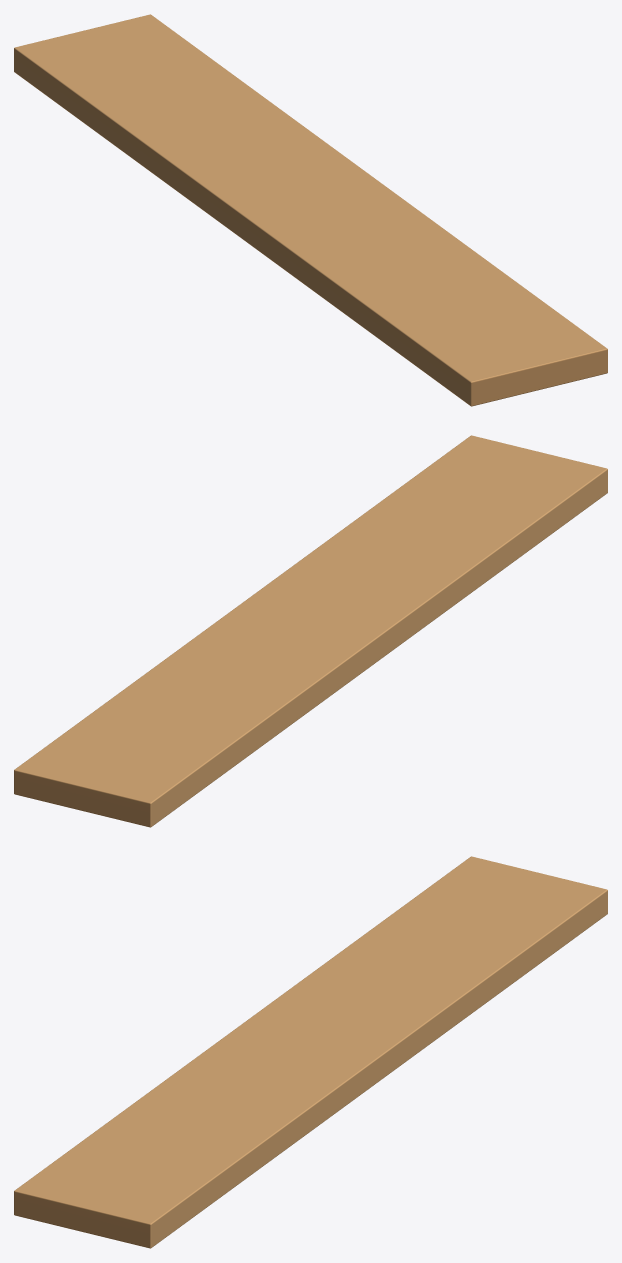
File: shelf.fbx
3 renders of one model, top to bottom at view 1: azimuth 30°, elevation 25°; view 2: azimuth 150°, elevation 25°; view 3: azimuth 330°, elevation 25°, orthographic.
Parts seen in each view (by area): view 1: shelf; view 2: shelf; view 3: shelf.
Part boxes in pixels (box(x1,y1,x2,y2)): shelf: box(14, 14, 607, 406); shelf: box(14, 435, 607, 827); shelf: box(14, 856, 607, 1248).
Bounding box in the file's own units: 0.26 × 1.5 × 0.045.
